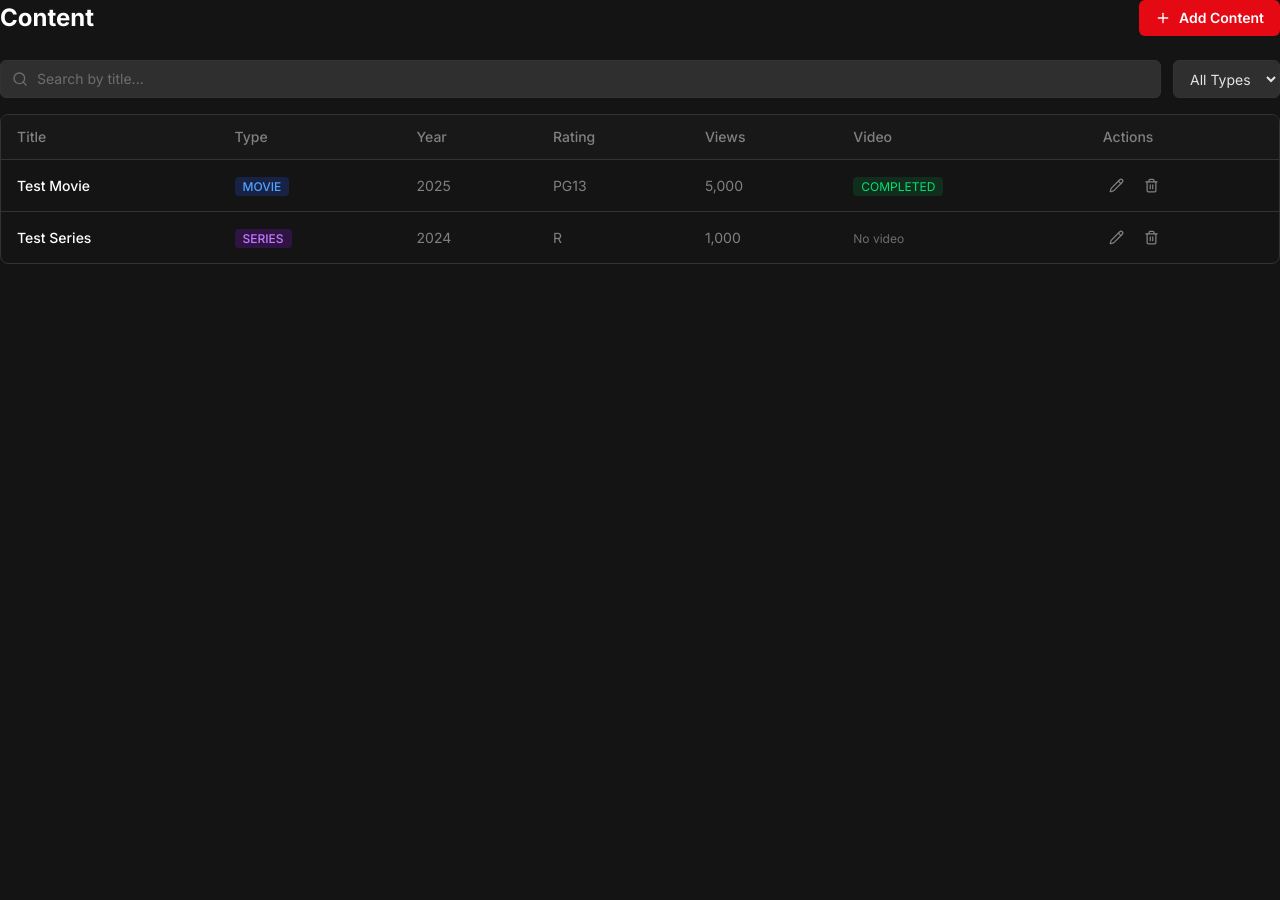
Test case: ContentTable › opens delete dialog when delete button is clicked
Expected: the text "Test Movie" is shown, [1, 160, 218, 212]
Click the button named "Delete Test Movie" at [1151, 186], box [1138, 172, 1165, 199]
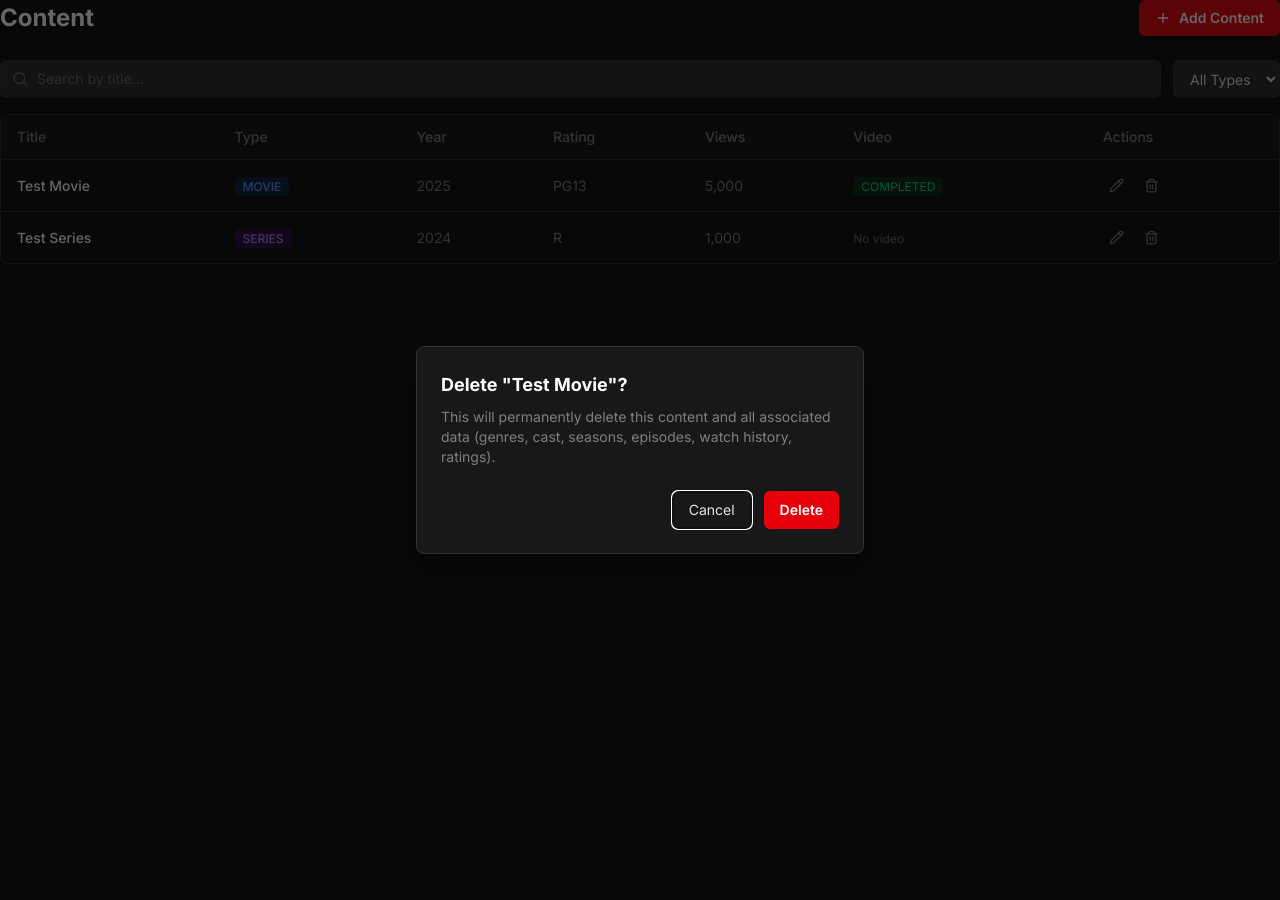
Now the heading "Delete \"Test Movie\"?" is shown, box [441, 374, 628, 395]
